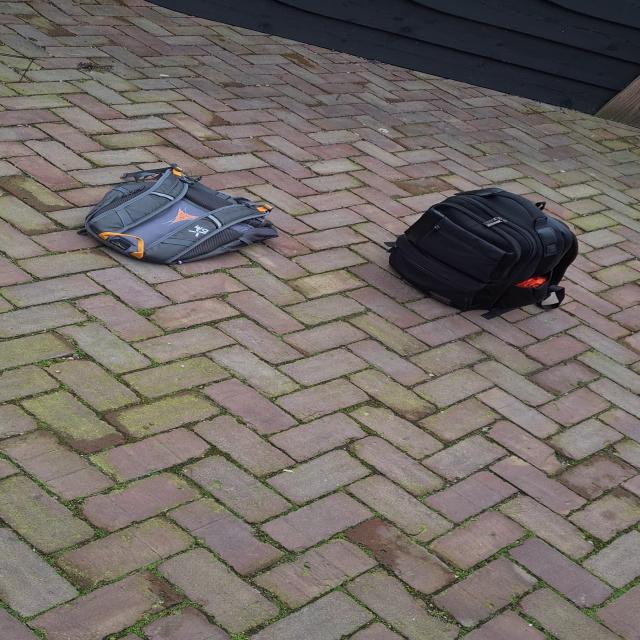backpack: (376, 184, 583, 314), (73, 163, 282, 266)
